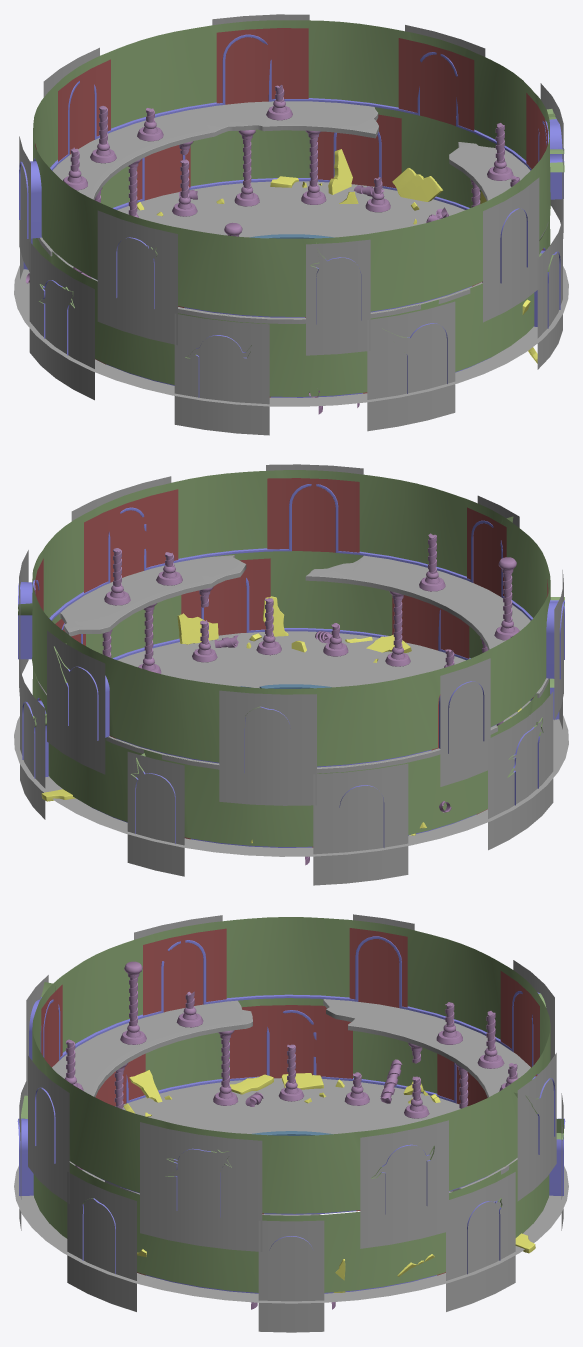
The model's file is Arena.fbx.
The picture shows the model from 3 angles, top to bottom: view 1: azimuth 30°, elevation 25°; view 2: azimuth 150°, elevation 25°; view 3: azimuth 270°, elevation 25°; orthographic projection.
Visible parts, largest first — view 1: Wall_Top_low, Wall_Bot_low, Moss_Top_low, Arena_Bot_low, Arena_Top_low, Moss_Bot_low, Debris_low, PillarFull_low, PillarFull_low1, PillarBot3_low2, PillarBot3_low1, PillarBot3_low (+2 smaller); view 2: Wall_Top_low, Wall_Bot_low, Arena_Bot_low, Moss_Top_low, Arena_Top_low, Moss_Bot_low, Debris_low, PillarFull_low1, PillarFull_low5, PillarBot3_low2, PillarBot3_low, PillarFull_low4 (+2 smaller); view 3: Wall_Top_low, Wall_Bot_low, Arena_Bot_low, Moss_Top_low, Arena_Top_low, Moss_Bot_low, Debris_low, PillarFull_low1, PillarFull_low7, PillarBot3_low1, PillarBot3_low2, PillarBot2_low (+2 smaller).
Boxes of the visible parts, <box> form: Wall_Top_low: <box>19,14,564,355</box>; Wall_Bot_low: <box>20,107,562,435</box>; Moss_Top_low: <box>35,28,547,317</box>; Arena_Bot_low: <box>14,181,568,406</box>; Arena_Top_low: <box>37,101,548,323</box>; Moss_Bot_low: <box>95,114,543,397</box>; Debris_low: <box>29,149,537,363</box>; PillarFull_low: <box>234,130,259,206</box>; PillarFull_low1: <box>301,130,326,204</box>; PillarBot3_low2: <box>487,123,513,180</box>; PillarBot3_low1: <box>90,106,116,163</box>; PillarBot3_low: <box>172,159,197,216</box>; Wall_Top_low: <box>18,464,564,805</box>; Wall_Bot_low: <box>20,551,562,885</box>; Arena_Bot_low: <box>14,631,568,856</box>; Moss_Top_low: <box>34,478,548,750</box>; Arena_Top_low: <box>38,555,549,773</box>; Moss_Bot_low: <box>39,558,533,847</box>; Debris_low: <box>41,596,521,843</box>; PillarFull_low1: <box>494,557,519,640</box>; PillarFull_low5: <box>385,591,410,666</box>; PillarBot3_low2: <box>104,548,130,605</box>; PillarBot3_low: <box>419,533,445,591</box>; PillarFull_low4: <box>138,603,161,673</box>; Wall_Top_low: <box>26,914,556,1251</box>; Wall_Bot_low: <box>17,998,565,1332</box>; Arena_Bot_low: <box>14,1078,568,1303</box>; Moss_Top_low: <box>41,928,539,1214</box>; Arena_Top_low: <box>52,999,530,1215</box>; Moss_Bot_low: <box>95,1005,487,1275</box>; Debris_low: <box>123,1070,535,1292</box>; PillarFull_low1: <box>120,961,146,1044</box>; PillarFull_low7: <box>213,1030,238,1105</box>; PillarBot3_low1: <box>477,1011,504,1068</box>; PillarBot3_low2: <box>278,1044,304,1101</box>; PillarBot2_low: <box>436,1002,462,1044</box>.
Bounding box in the file's own units: 192 × 88.17 × 192.
